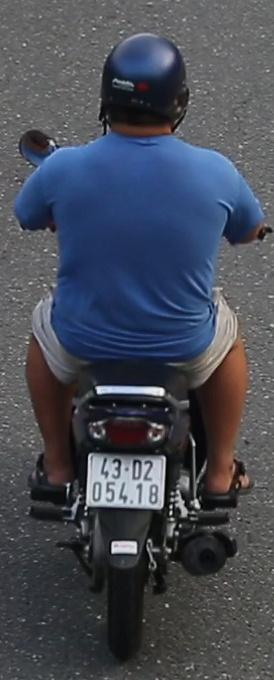LP: (84, 443, 169, 514)
helmet: (96, 26, 195, 145)
